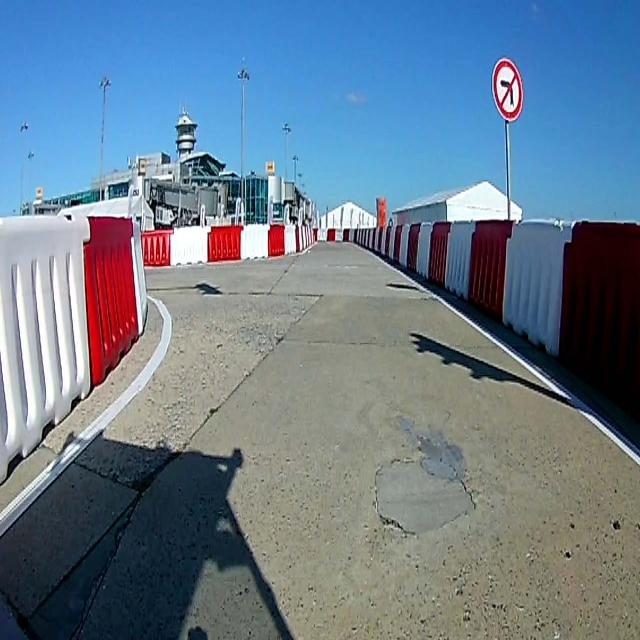soladonulmez: (491, 56, 524, 122)
